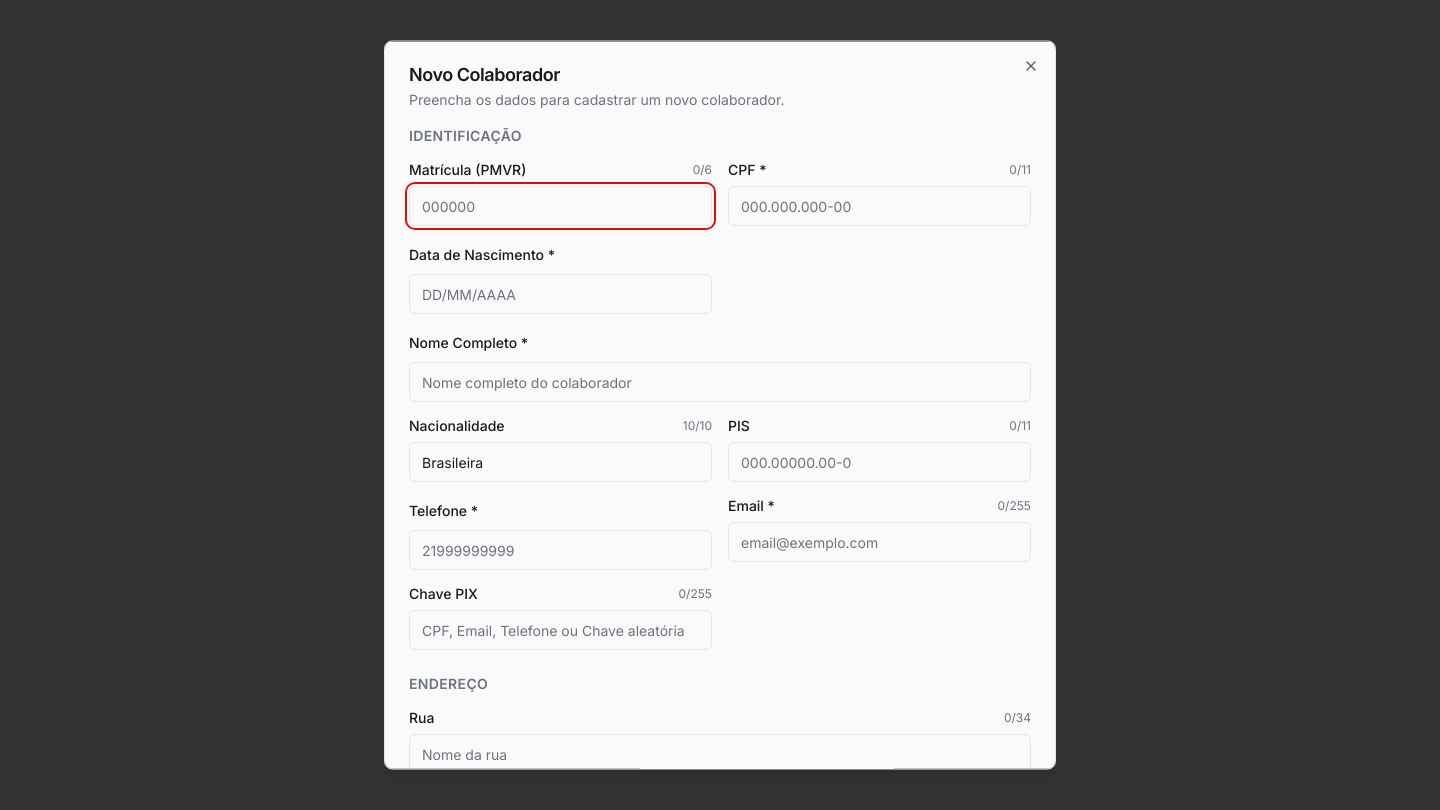
Test case: ColaboradorDialog (interação) › validação › aponta nome e CPF que faltam, campo a campo
Type "52998224725" into the field labelled "CPF *" at (880,206), box [728,186,1031,226]
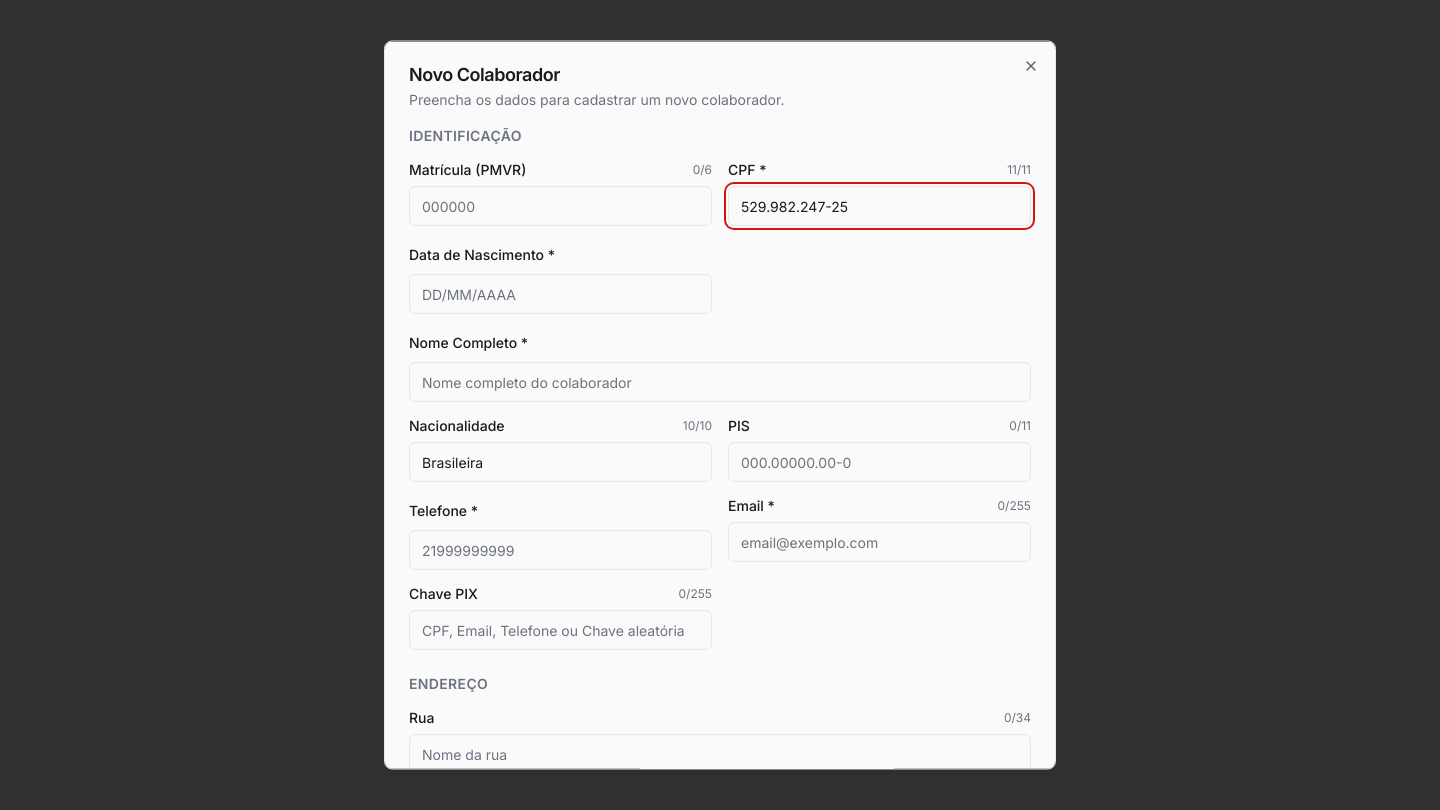
Type "24999998888" into the field labelled "Telefone *" at (560,550), box [409,530,712,570]
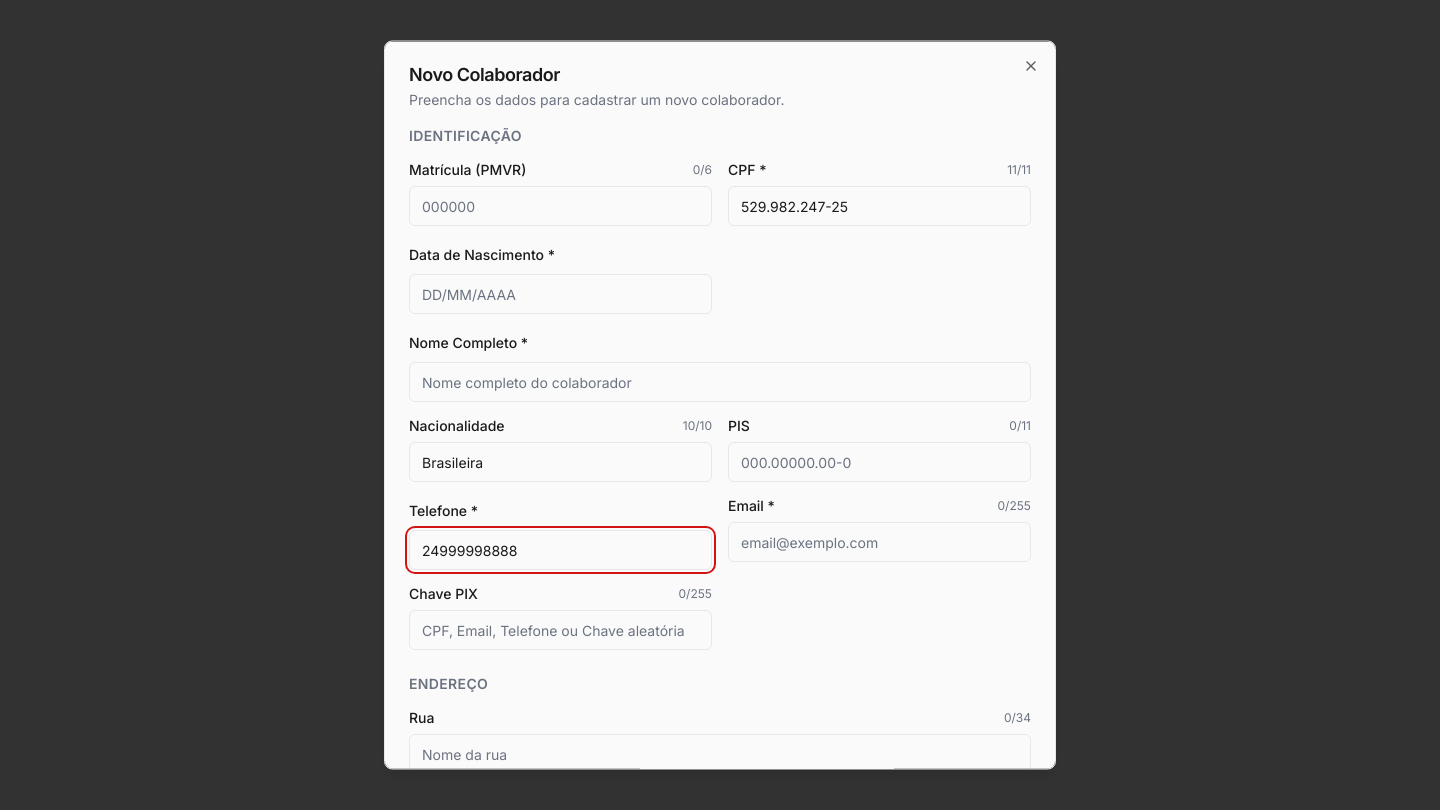
Type "nova@exemplo.com" into the field labelled "Email *" at (880,542), box [728,522,1031,562]
(page scrolled)
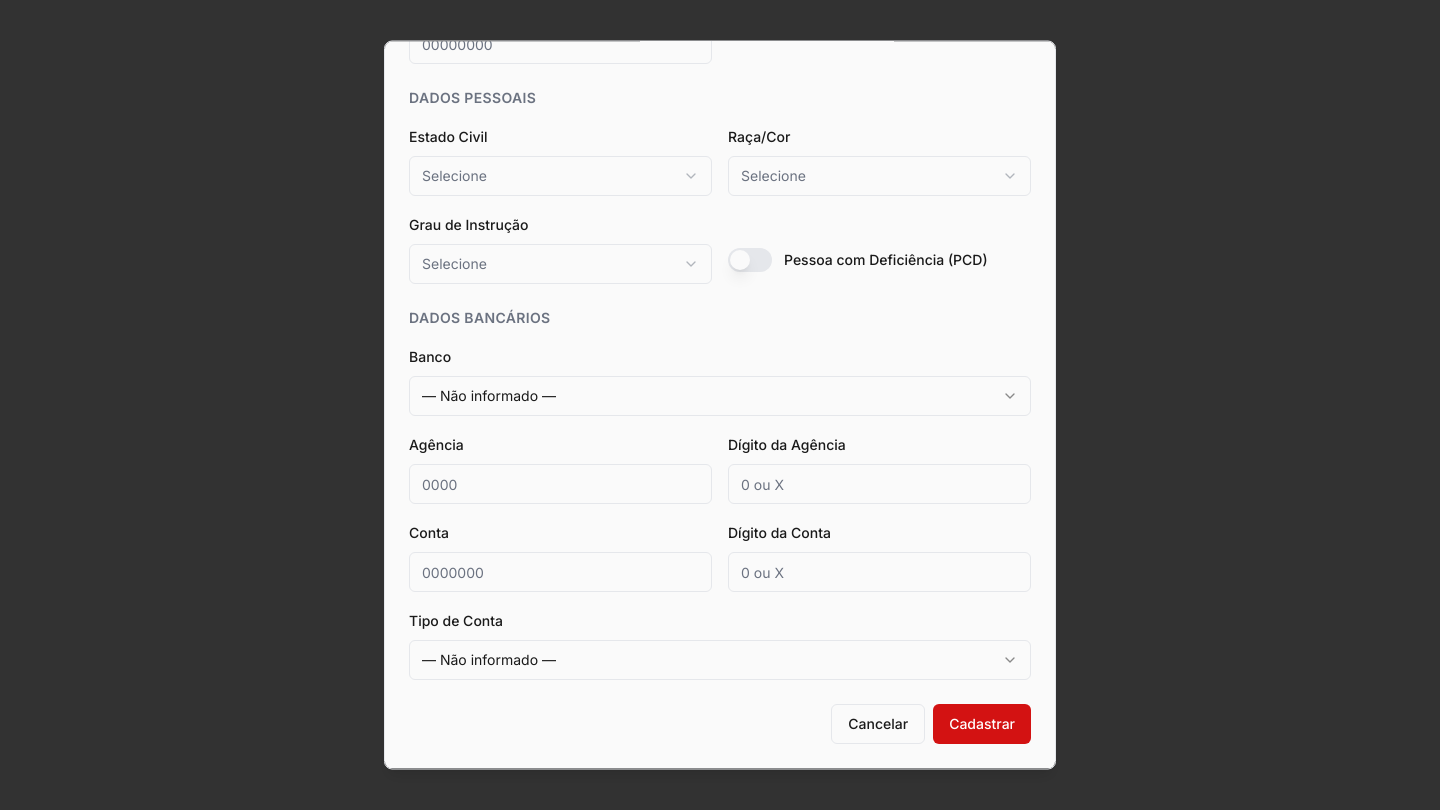
Click the button "Cadastrar" at (982,724), box [933,704,1031,744]
(page scrolled)
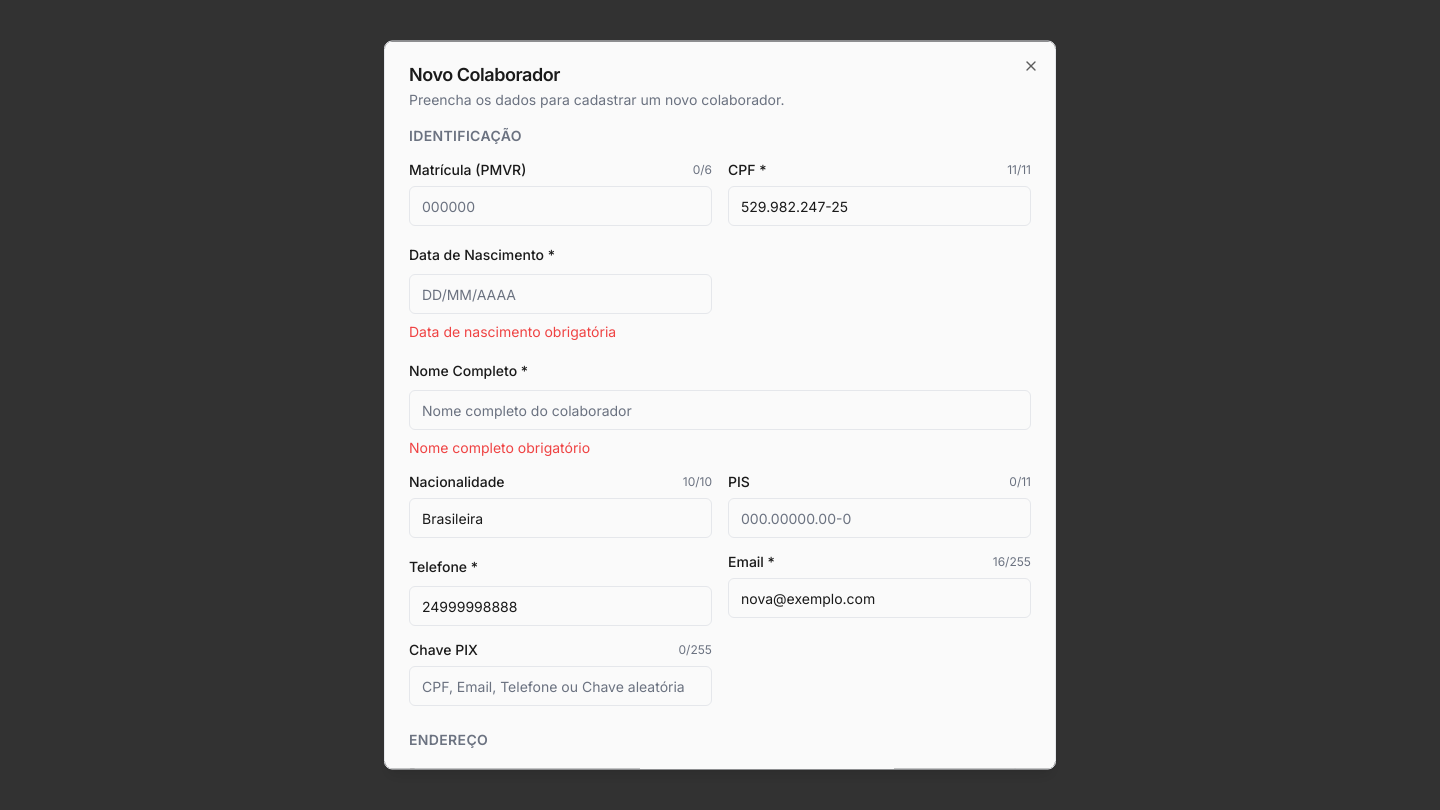
Expected: the text "Nome completo obrigatório" is shown, [409,438,590,456]
Expected: the text "Data de nascimento obrigatória" is shown, [409,322,616,340]
